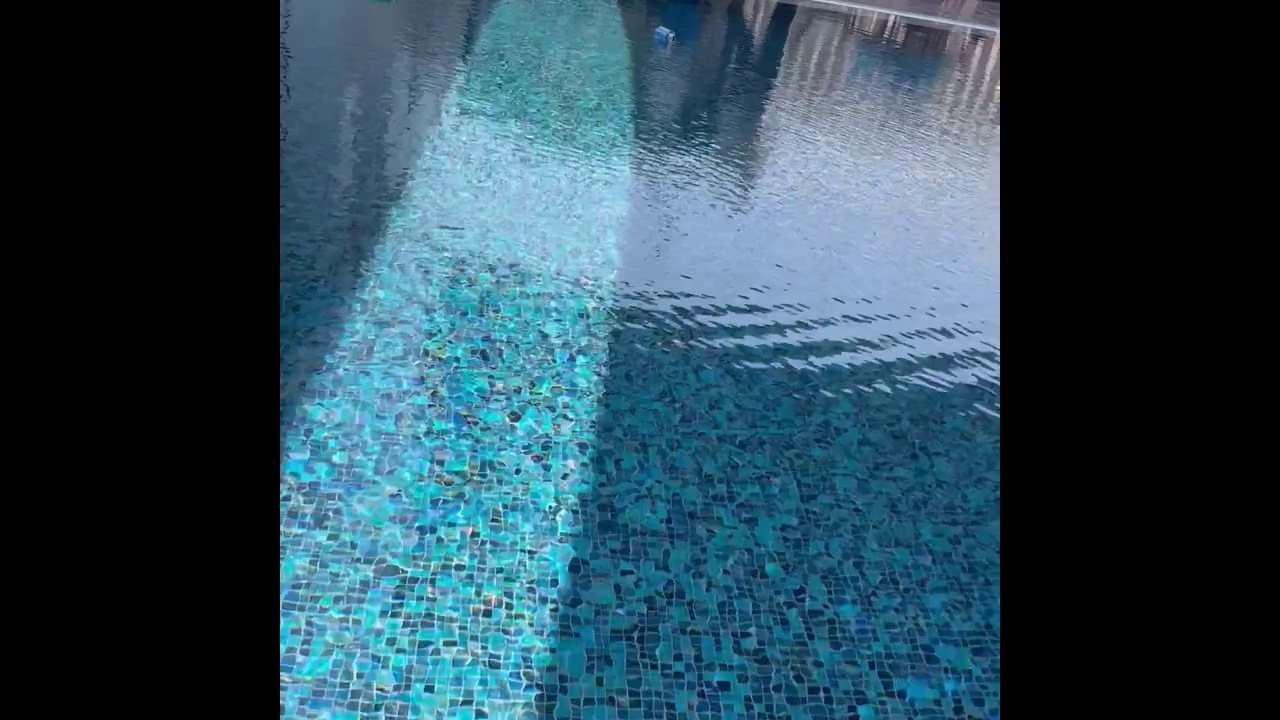debris: (652, 23, 678, 46)
